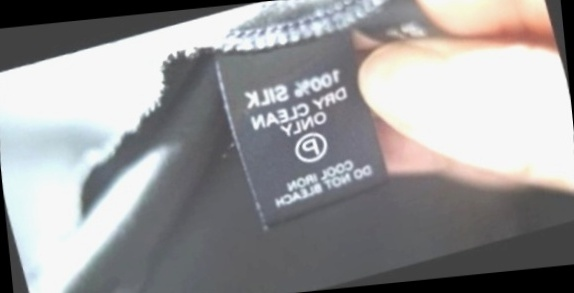dry_clean_any_solvent_except_trichloroethylene: (283, 121, 337, 173)
